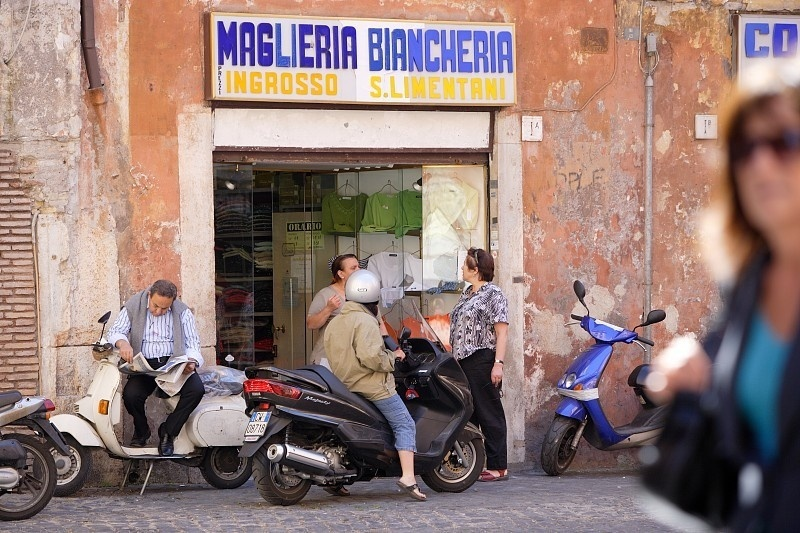non-vehicle: (243, 345, 493, 503), (57, 327, 254, 494), (536, 282, 691, 483), (0, 312, 75, 510)
